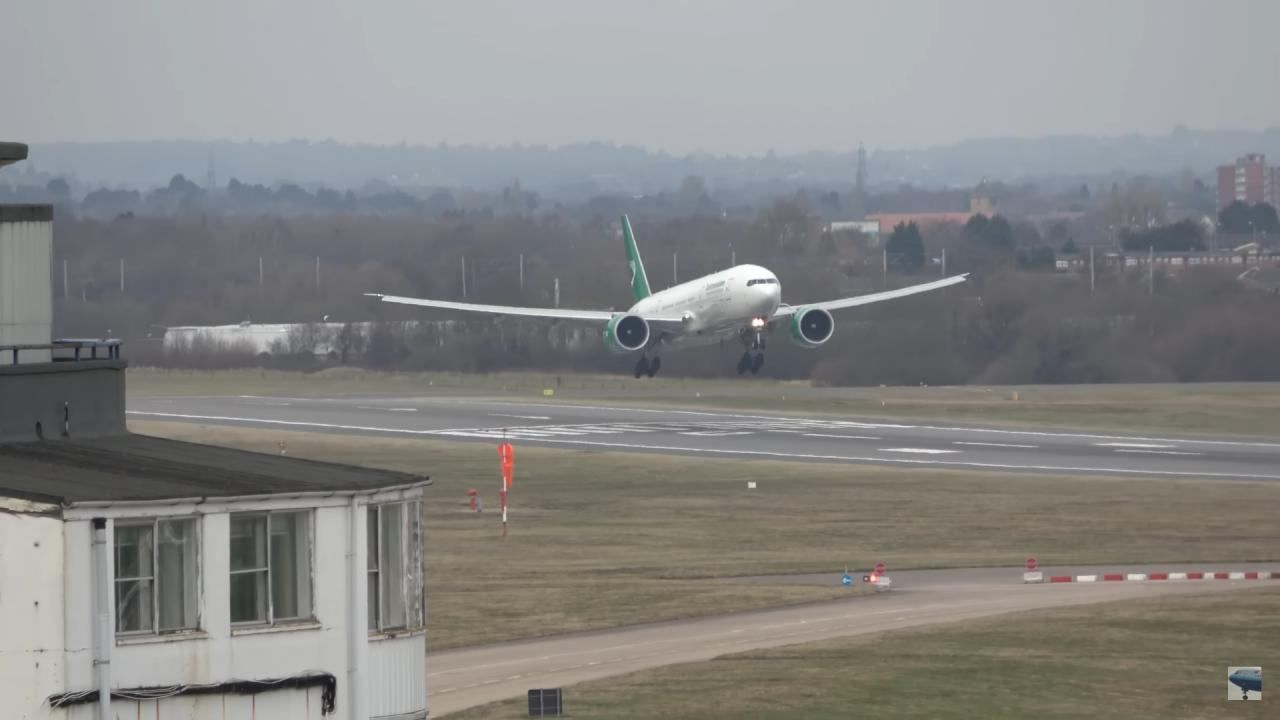Airplane: (354, 207, 980, 393)
